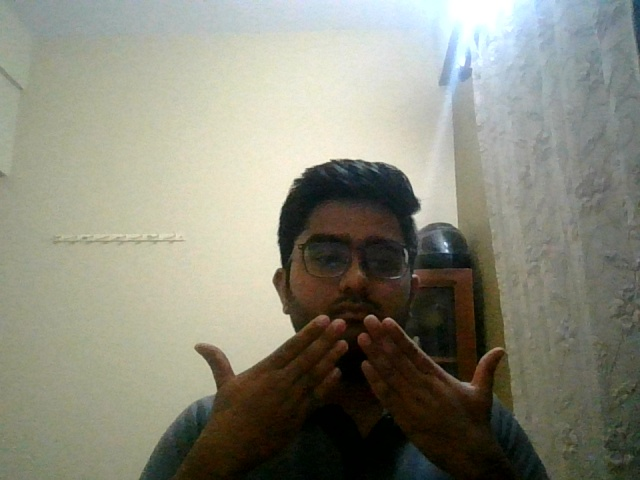Thank You: (171, 301, 547, 480)
